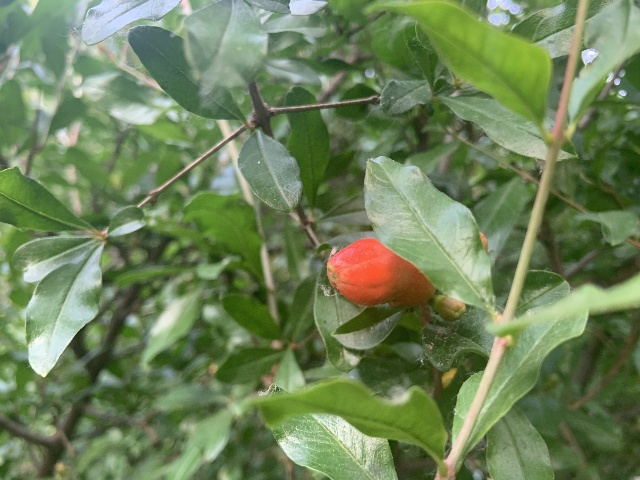bud: (326, 238, 433, 307), (429, 294, 466, 322)
